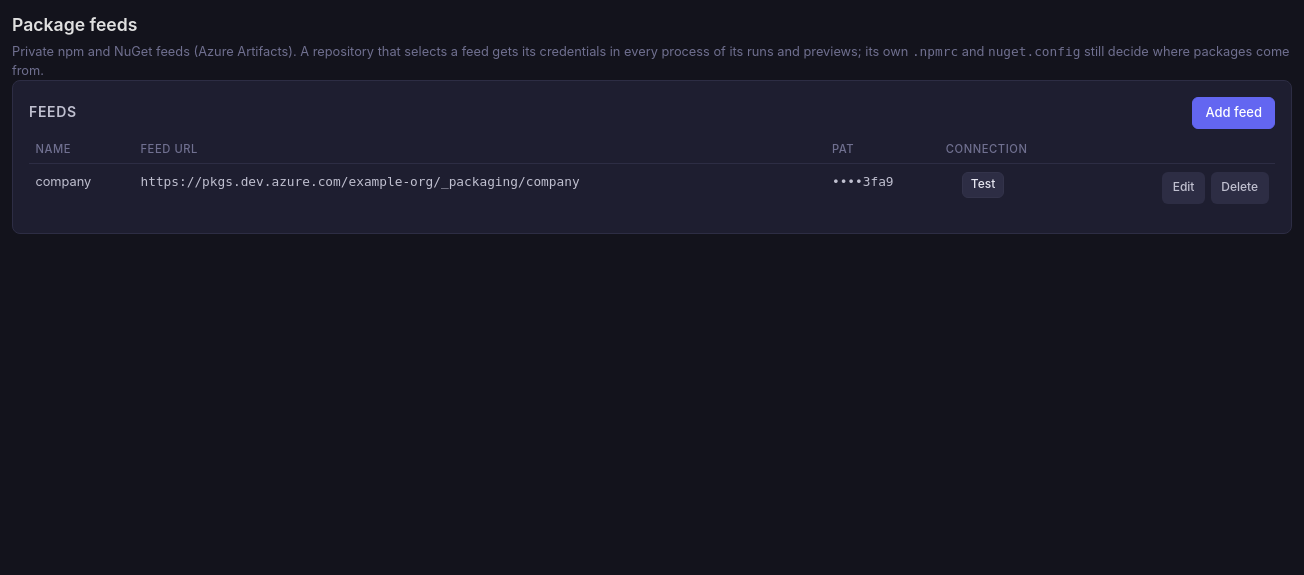
it: Package feeds settings › adds a feed with a password PAT field and a scope hint, and shows it once saved
Check: the text "company" is shown, box [29, 164, 134, 217]
Click the button "Add feed": (1234, 113) [1192, 97, 1275, 129]
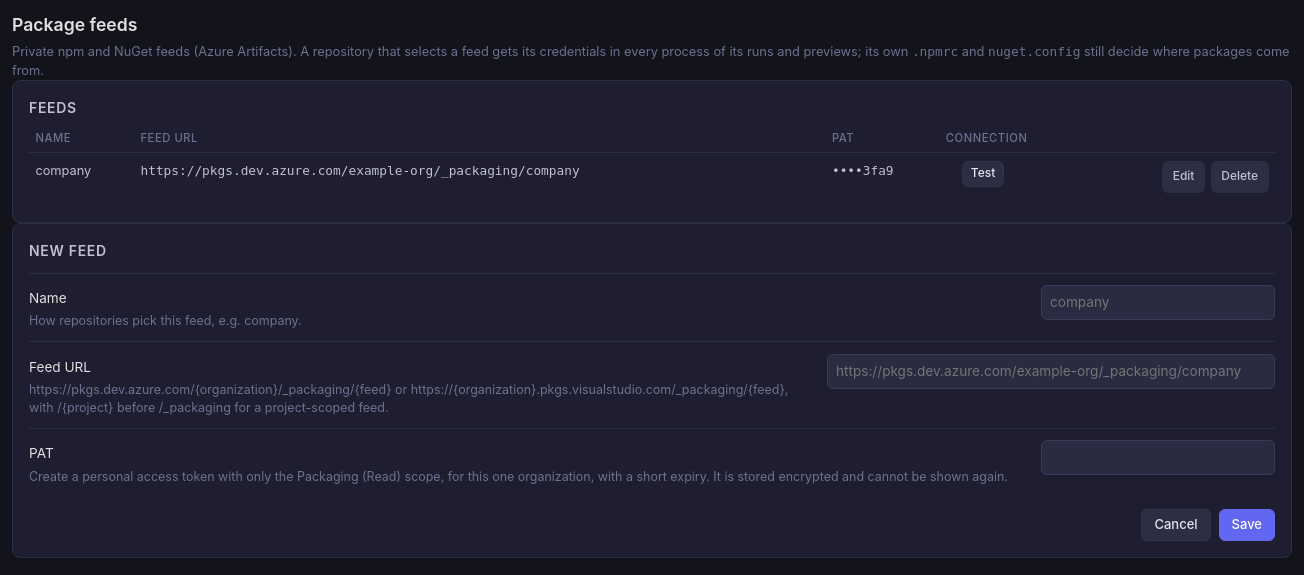
Check: the field labelled "Feed URL" is shown, box [827, 354, 1275, 389]
Check: the text "Packaging (Read)" is shown, box [29, 468, 1008, 484]
In the field labelled "Name": (1158, 302) [1041, 285, 1275, 320], type "tools"
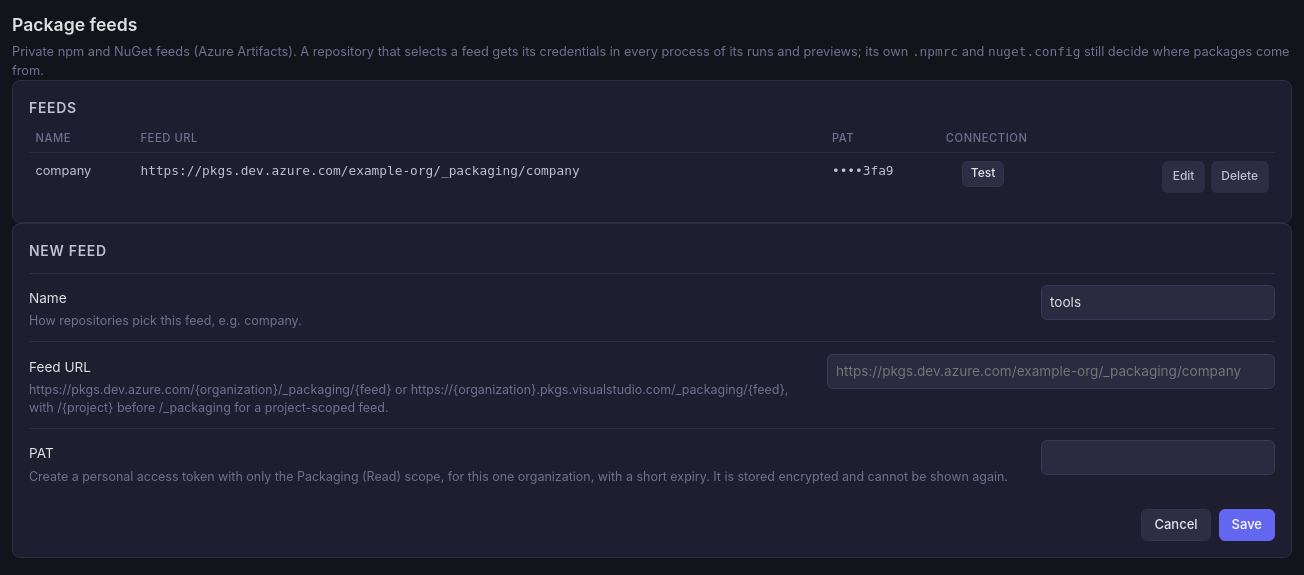
In the field labelled "Feed URL": (1051, 371) [827, 354, 1275, 389], type "https://pkgs.dev.azure.com/example-org/example-project/_packaging/tools"
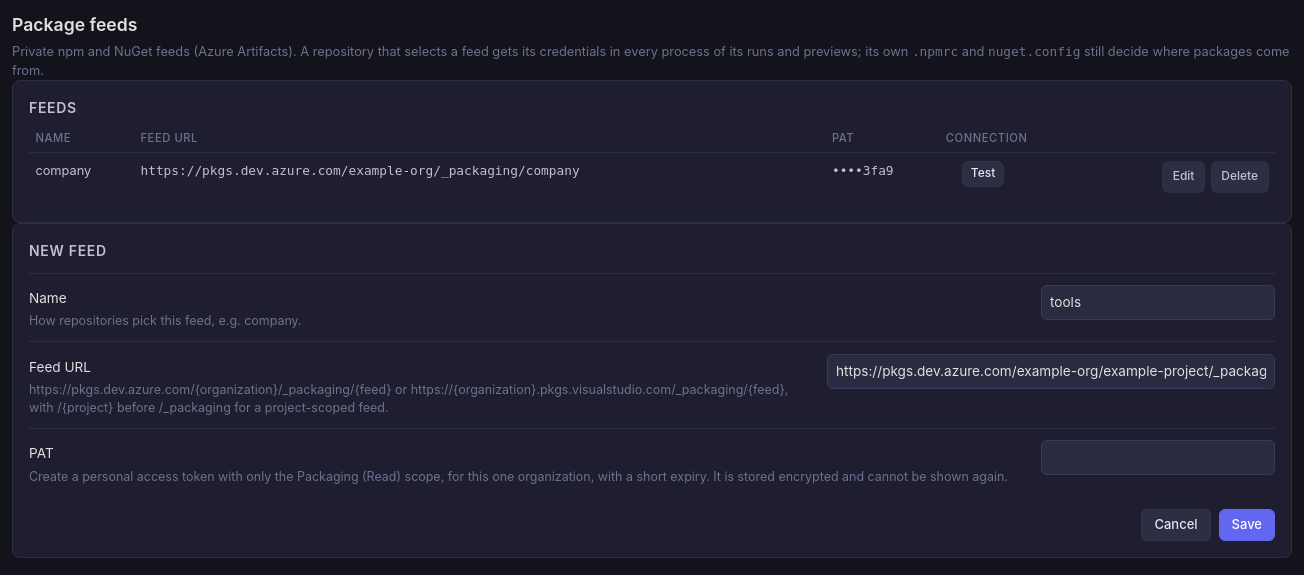
In the password field labelled "PAT": (1158, 458) [1041, 440, 1275, 476], type "new-pat-value"
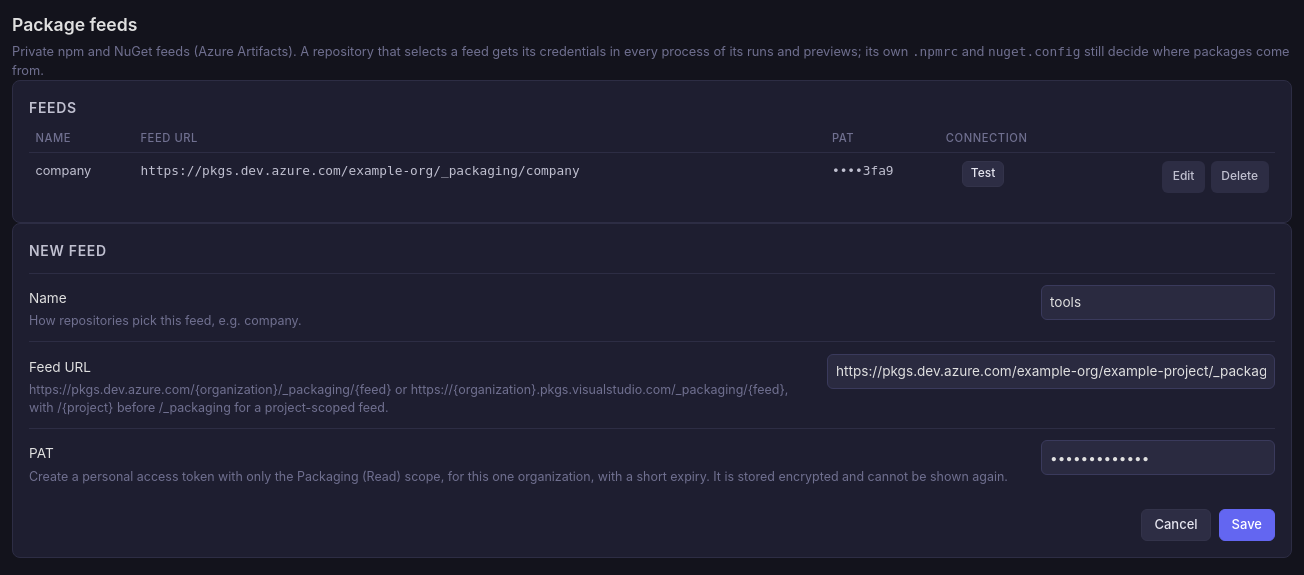
Click the button "Save": (1247, 525) [1219, 509, 1275, 541]
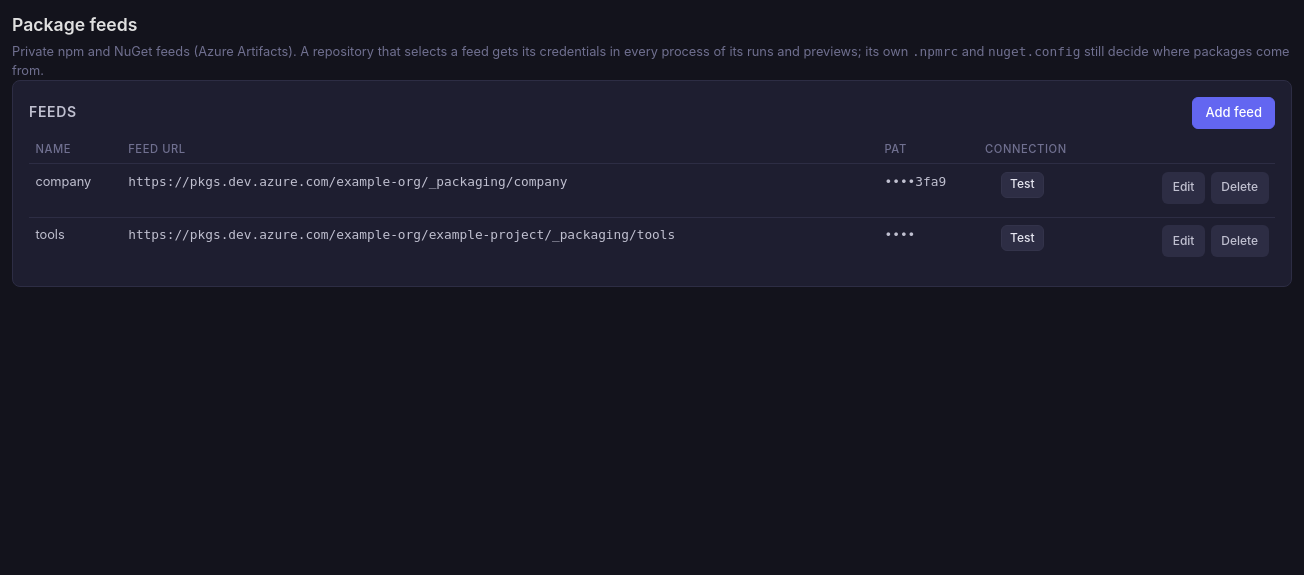
Check: the text "https://pkgs.dev.azure.com/example-org/example-project/_packaging/tools" is shown, box [122, 217, 878, 270]
